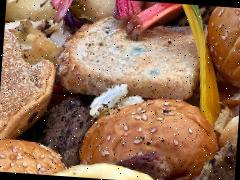organic: (68, 16, 204, 94), (87, 100, 216, 176), (0, 26, 55, 135), (0, 139, 66, 176)
